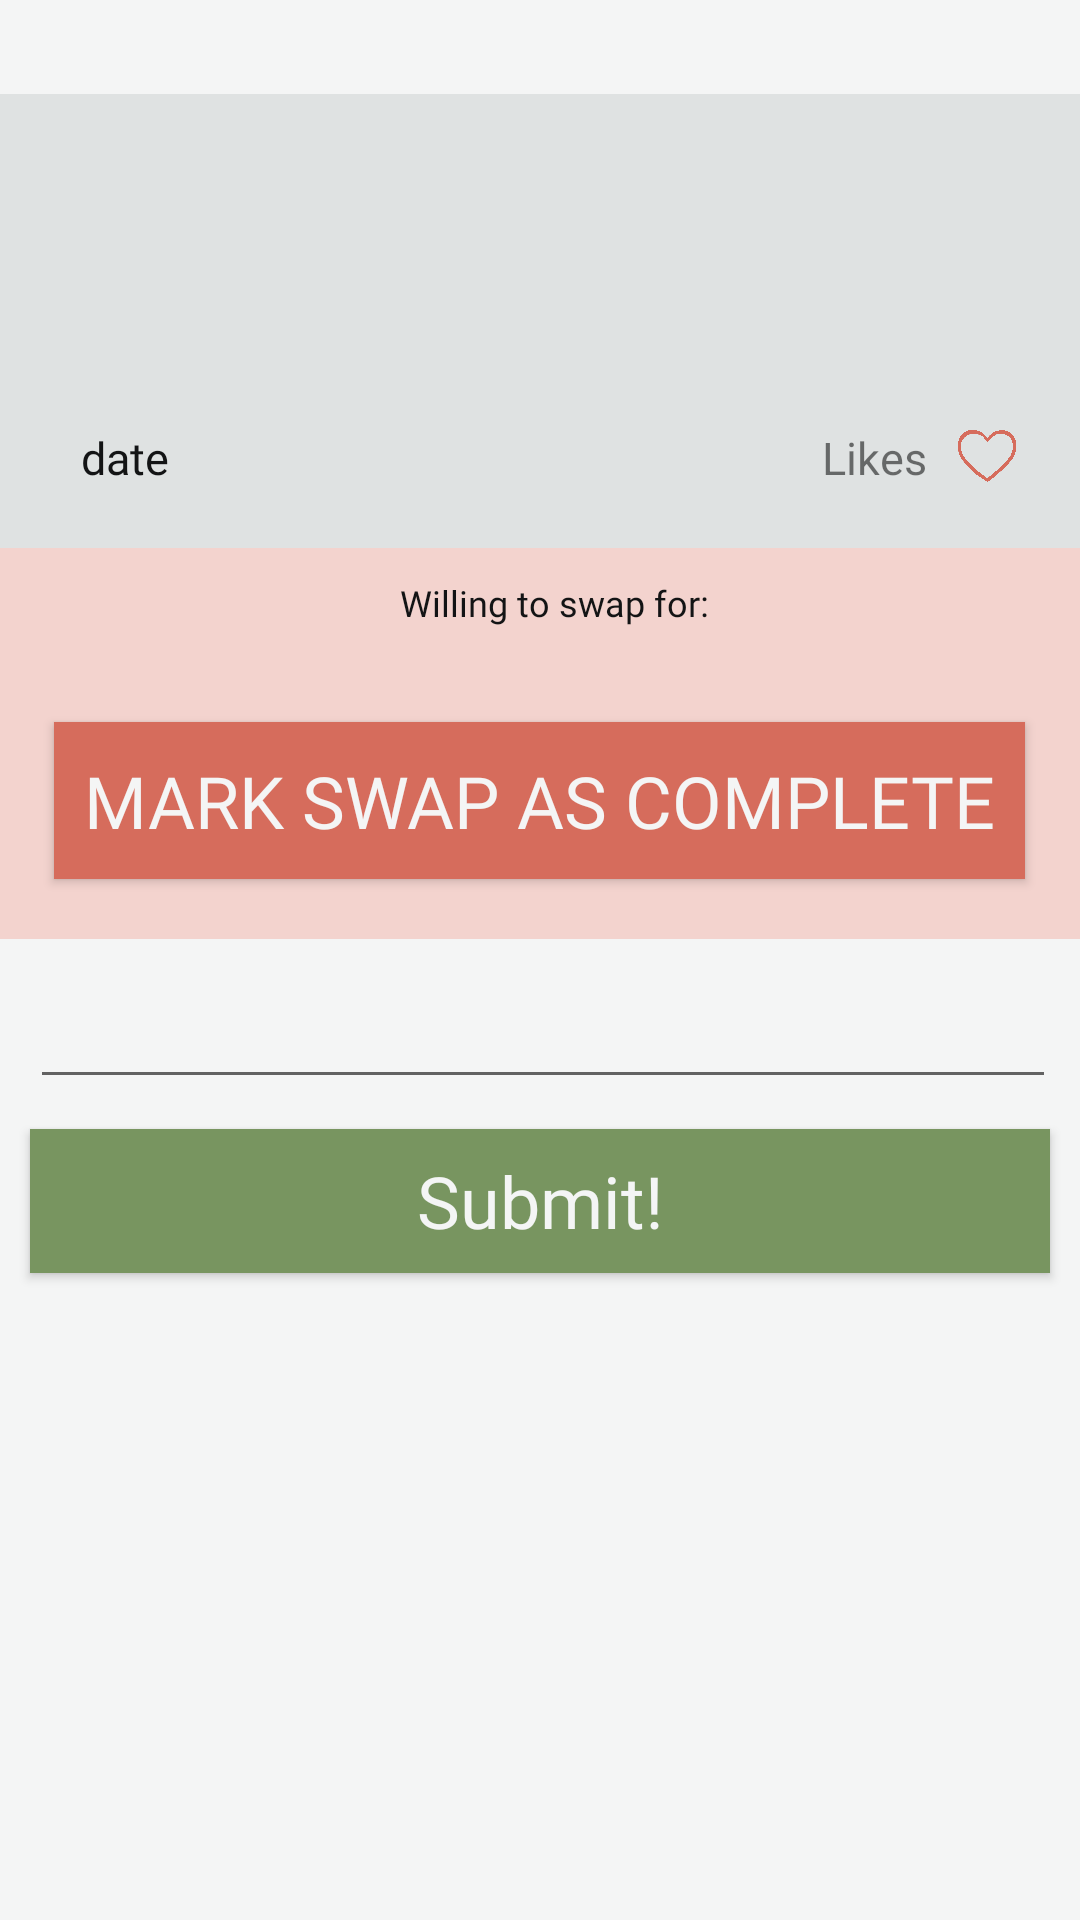

Point at icon controls on the screen. Image size 1080×1920, points as (x,y).
heart empty: (987,456)
